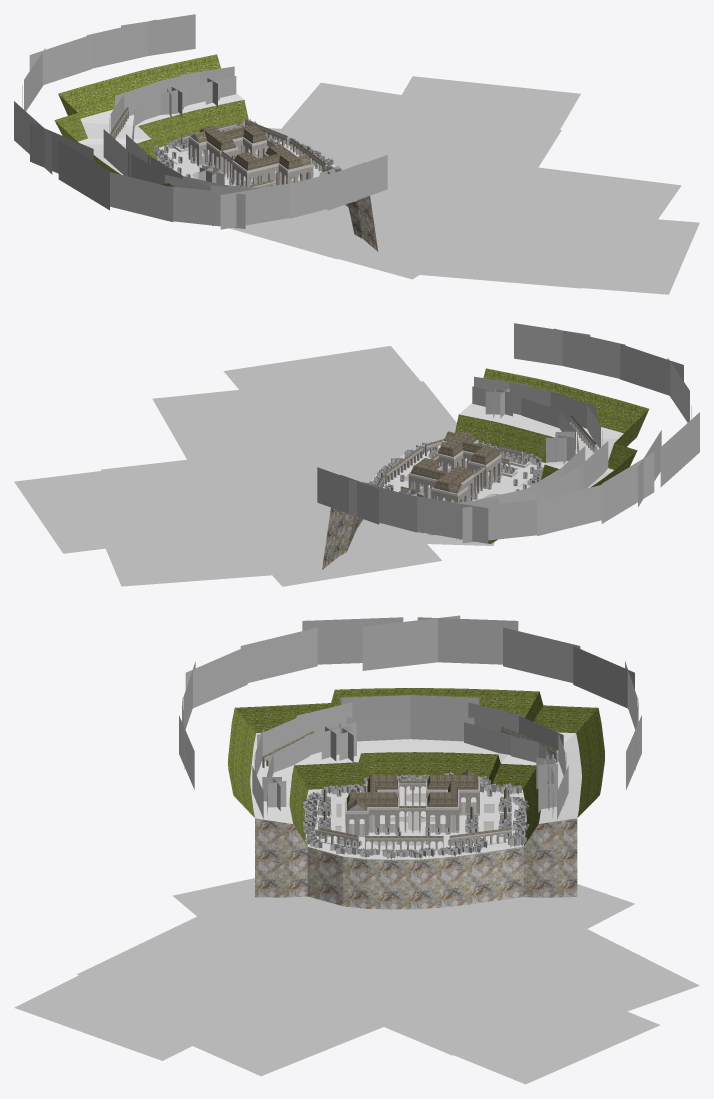
File: GARDEN 3.fbx
3 renders of one model, top to bottom at view 1: azimuth 30°, elevation 25°; view 2: azimuth 150°, elevation 25°; view 3: azimuth 270°, elevation 25°, orthographic. The views are drawn at different scales.
Parts seen in each view (by area): view 1: VEGITATION, CLOUDS.001, CLOUDS, CLOUDS.002, BARRIER, BUILDINGS, GRASS, arch, CONCRETE GROUND, MOUNTAIN SIDE; view 2: VEGITATION, CLOUDS.001, CLOUDS.002, CLOUDS, BARRIER, BUILDINGS, GRASS, CONCRETE GROUND, arch, MOUNTAIN SIDE; view 3: VEGITATION, CLOUDS.001, CLOUDS, CLOUDS.002, MOUNTAIN SIDE, BARRIER, GRASS, CONCRETE GROUND, BUILDINGS, arch, WATER.
Boxes of the visible parts, bbox=[...] form: VEGITATION: bbox=[14, 14, 387, 229]; CLOUDS.001: bbox=[420, 167, 699, 294]; CLOUDS: bbox=[229, 128, 525, 279]; CLOUDS.002: bbox=[281, 76, 580, 198]; BARRIER: bbox=[54, 54, 248, 225]; BUILDINGS: bbox=[188, 124, 313, 187]; GRASS: bbox=[78, 93, 335, 175]; arch: bbox=[110, 107, 327, 187]; CONCRETE GROUND: bbox=[164, 146, 321, 187]; MOUNTAIN SIDE: bbox=[345, 196, 378, 251]; VEGITATION: bbox=[317, 323, 699, 543]; CLOUDS.001: bbox=[152, 346, 456, 459]; CLOUDS.002: bbox=[14, 454, 271, 586]; CLOUDS: bbox=[214, 431, 494, 586]; BARRIER: bbox=[455, 368, 648, 543]; BUILDINGS: bbox=[408, 431, 501, 502]; GRASS: bbox=[371, 403, 623, 490]; CONCRETE GROUND: bbox=[383, 455, 542, 502]; arch: bbox=[377, 415, 597, 496]; MOUNTAIN SIDE: bbox=[322, 507, 363, 569]; VEGITATION: bbox=[179, 615, 641, 859]; CLOUDS.001: bbox=[14, 916, 383, 1076]; CLOUDS: bbox=[172, 878, 634, 999]; CLOUDS.002: bbox=[319, 929, 699, 1084]; MOUNTAIN SIDE: bbox=[255, 818, 577, 909]; BARRIER: bbox=[228, 688, 604, 845]; GRASS: bbox=[250, 732, 581, 859]; CONCRETE GROUND: bbox=[319, 787, 511, 850]; BUILDINGS: bbox=[345, 769, 479, 837]; arch: bbox=[262, 726, 558, 849]; WATER: bbox=[335, 794, 494, 845].
Size of the model in its own units: 294 by 65.66 by 268.
